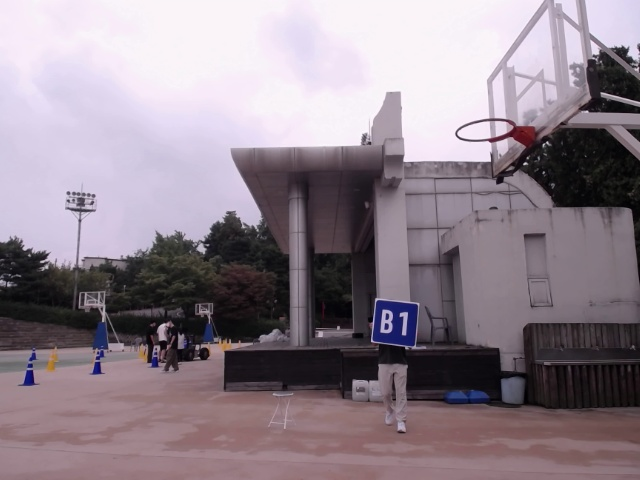delivery_b1: (371, 298, 419, 347)
